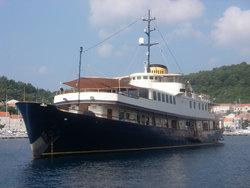youlun: (19, 64, 223, 152)
